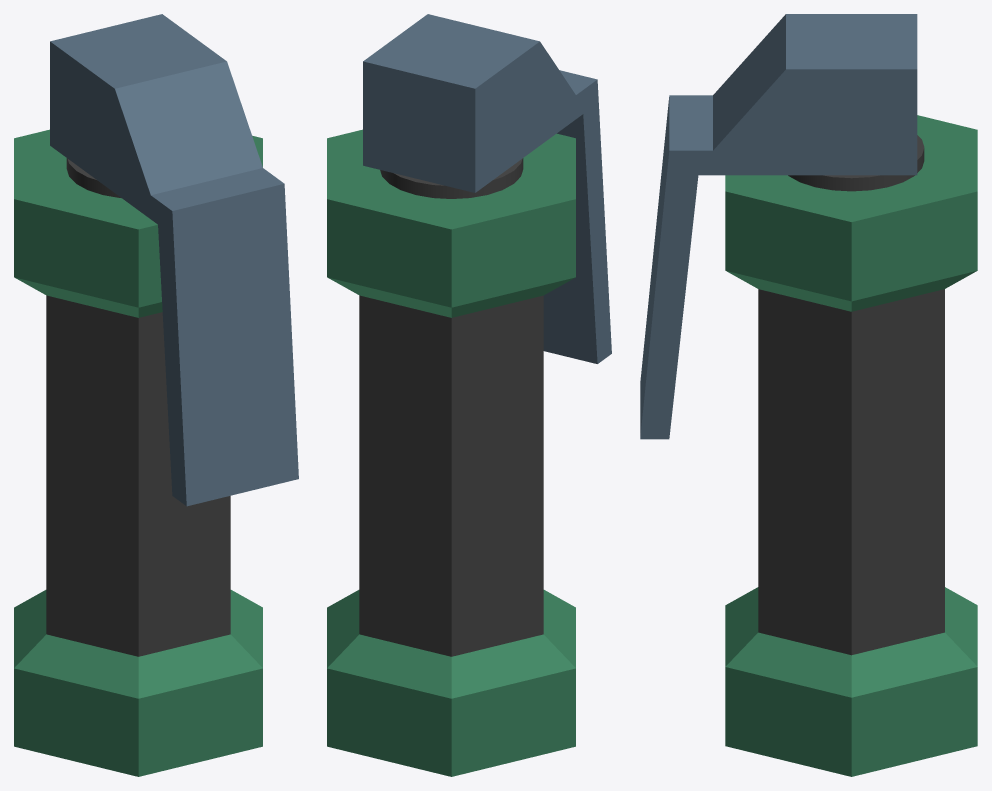
The model's file is grenadeFlash.dae.
3 renders of one model, left to right at view 1: azimuth 30°, elevation 25°; view 2: azimuth 150°, elevation 25°; view 3: azimuth 270°, elevation 25°, orthographic.
Visible parts, largest first — view 1: grenadeFlash, grip; view 2: grenadeFlash, grip; view 3: grenadeFlash, grip.
Boxes of the visible parts, x1,y1,x2,y2 form: grenadeFlash: (14,129,262,776); grip: (50,14,298,506); grenadeFlash: (327,129,575,776); grip: (363,14,611,363); grenadeFlash: (725,115,977,776); grip: (640,14,917,439).
Bounding box in the file's own units: 0.0766 × 0.1952 × 0.0887.
